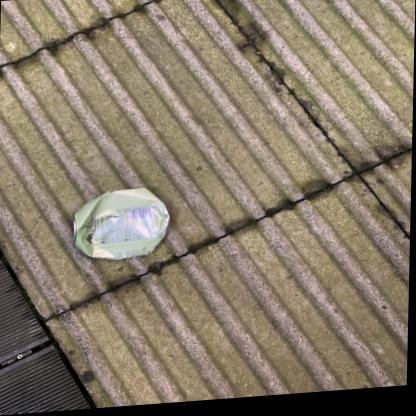trash: (74, 188, 169, 259)
